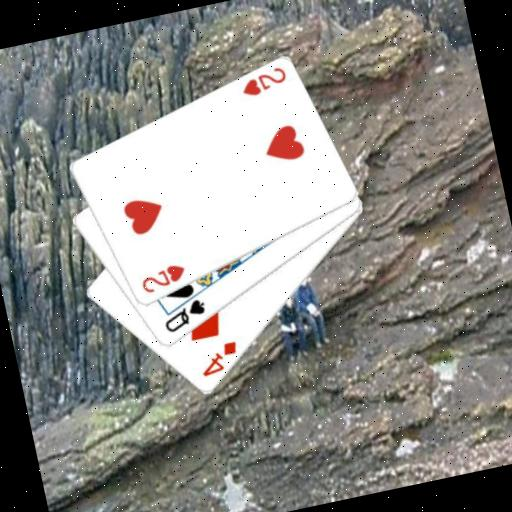2H: (135, 260, 190, 297), (235, 63, 290, 100)
4D: (193, 337, 243, 380)
QS: (157, 295, 211, 336)
